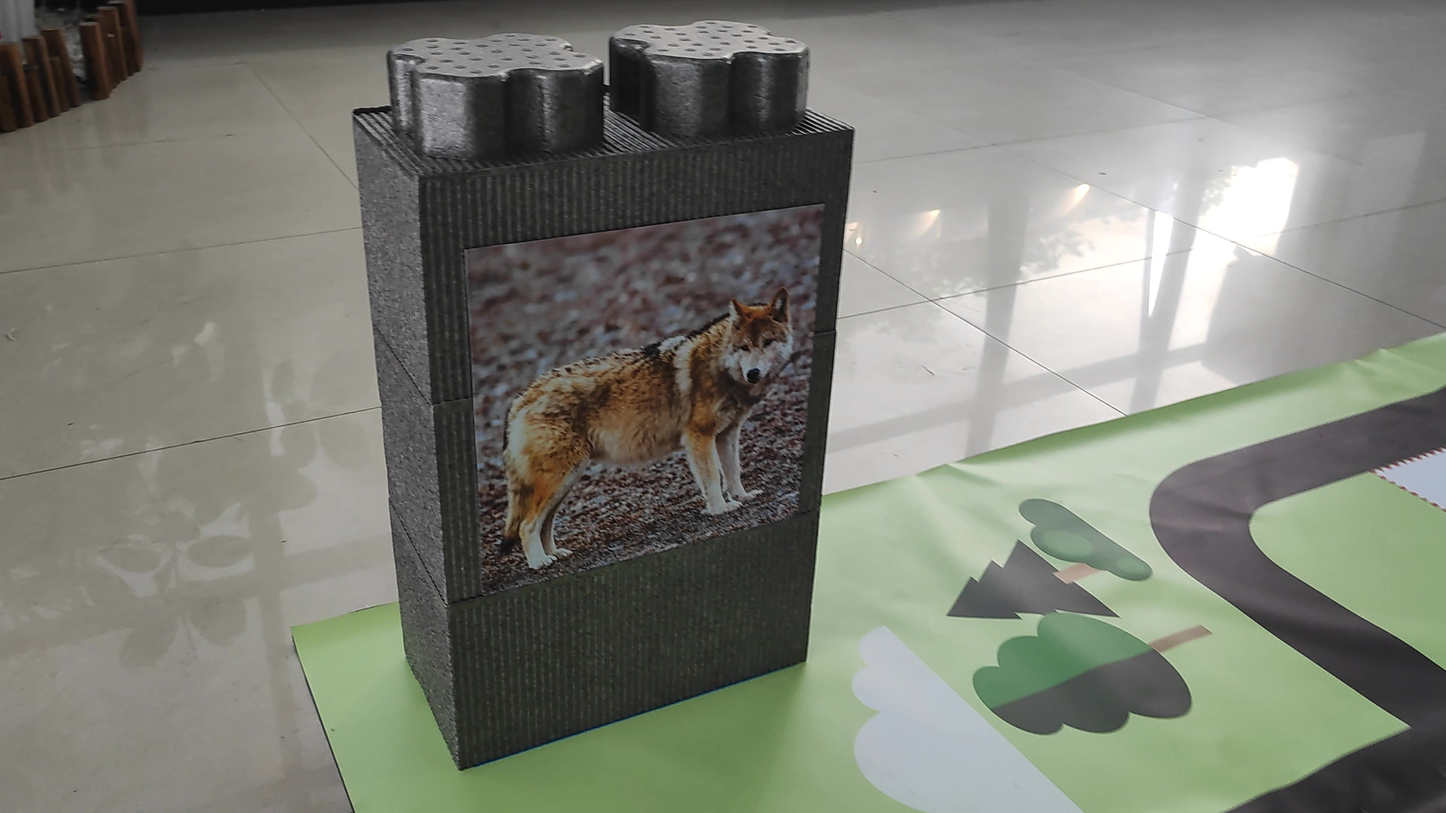wolf: (484, 253, 808, 568)
